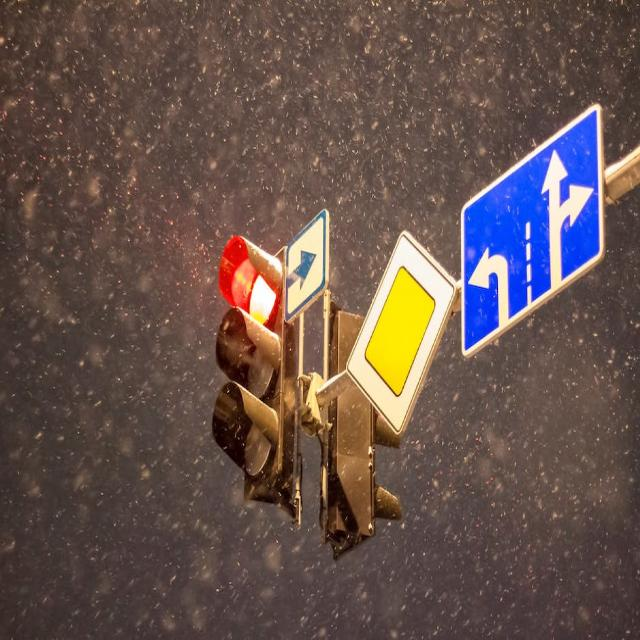no stopping: (284, 211, 328, 309)
